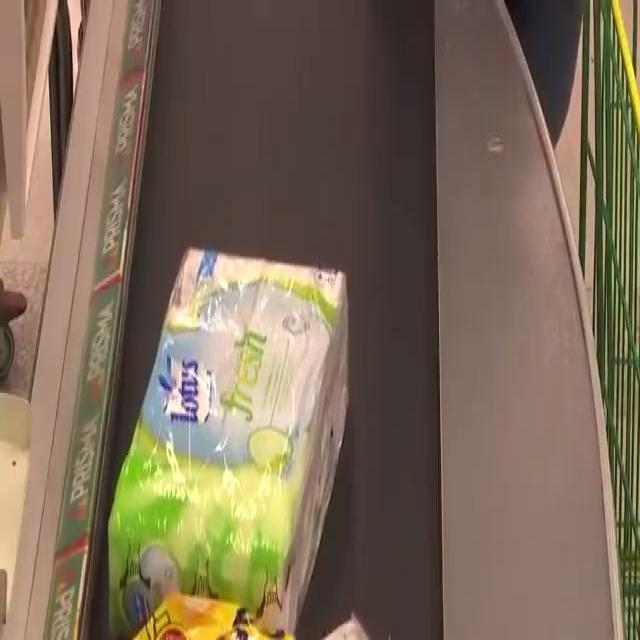utility-box: (94, 254, 366, 640)
